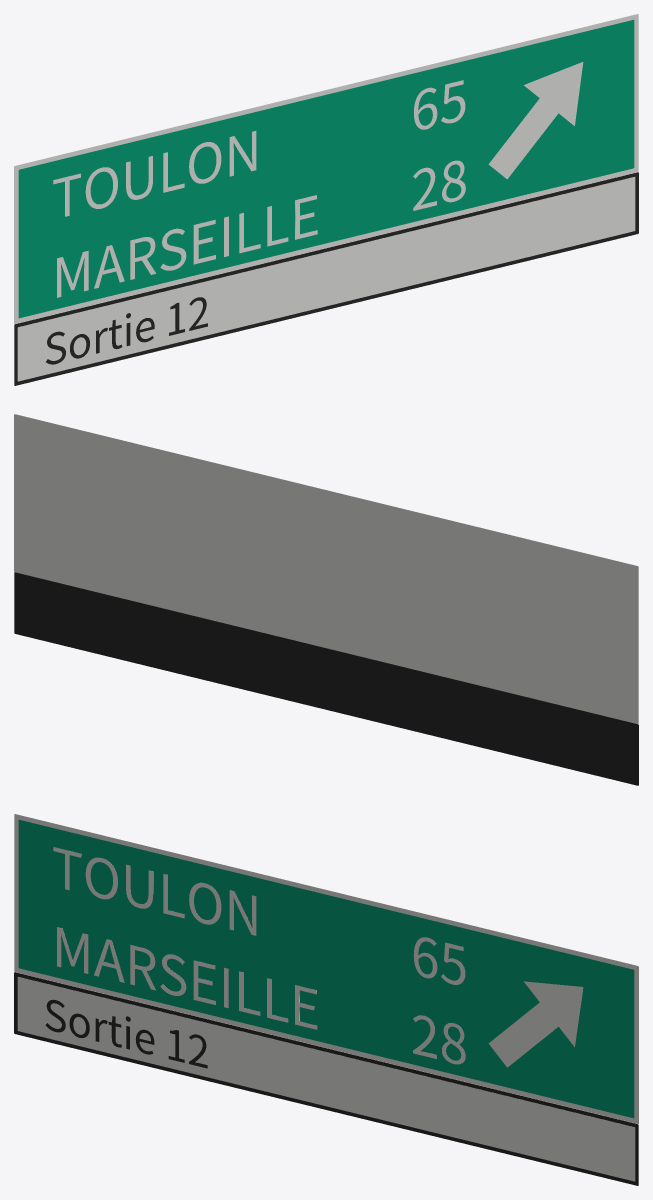
3 views of the same model, one above another, from view 1: azimuth 30°, elevation 25°; view 2: azimuth 150°, elevation 25°; view 3: azimuth 330°, elevation 25° (orthographic).
Visible parts, largest first — view 1: D51c_reg01, D51c_reg08, D51c_lis00, D51c_lis07, D51c_fl02, D51c_txt05, D51c_txt03, D51c_txt09, D51c_txt04, D51c_txt06; view 2: D51c_lis00, D51c_lis07; view 3: D51c_reg01, D51c_reg08, D51c_lis00, D51c_lis07, D51c_fl02, D51c_txt05, D51c_txt03, D51c_txt09, D51c_txt04, D51c_txt06.
Part boxes in pixels (box(x1,y1,x2,y2)): D51c_reg01: box(18, 19, 634, 318); D51c_reg08: box(17, 177, 635, 381); D51c_lis00: box(14, 14, 638, 323); D51c_lis07: box(14, 172, 638, 385); D51c_fl02: box(488, 62, 583, 179); D51c_txt05: box(57, 195, 317, 297); D51c_txt03: box(53, 131, 256, 216); D51c_txt09: box(46, 297, 207, 364); D51c_txt04: box(414, 80, 465, 129); D51c_txt06: box(413, 160, 465, 210); D51c_lis00: box(14, 414, 638, 724); D51c_lis07: box(14, 572, 638, 785); D51c_reg01: box(18, 819, 634, 1118); D51c_reg08: box(17, 977, 635, 1181); D51c_lis00: box(14, 814, 638, 1123); D51c_lis07: box(14, 972, 638, 1185); D51c_fl02: box(488, 981, 583, 1067); D51c_txt05: box(57, 927, 317, 1029); D51c_txt03: box(53, 847, 256, 935); D51c_txt09: box(45, 999, 207, 1068); D51c_txt04: box(413, 937, 465, 984); D51c_txt06: box(413, 1015, 465, 1064).
Size of the model in its own units: 5.29 by 1.78 by 0.004.
